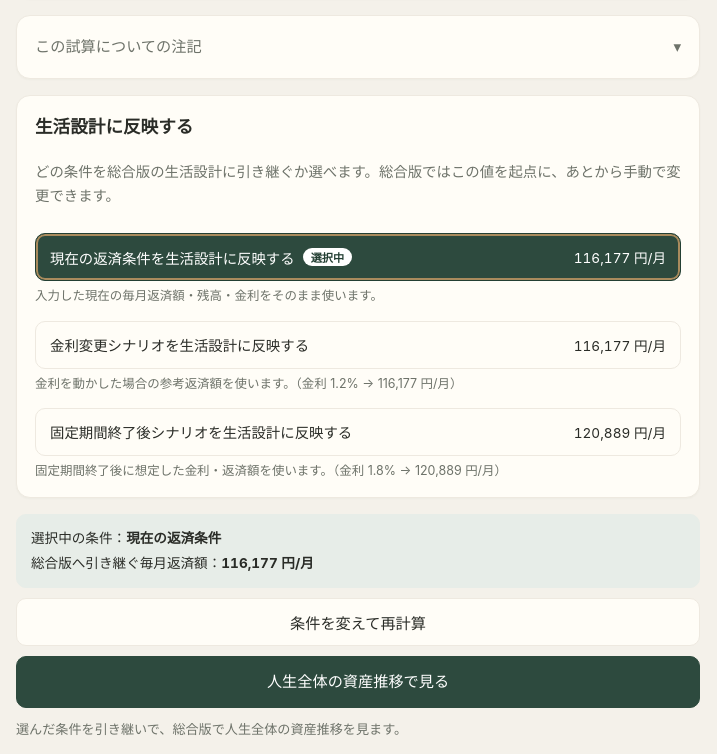
Scenario: ResultScreen 反映ボタンの選択状態 › 固定期間終了後シナリオを押すと保存メッセージが「固定期間終了後シナリオ」になる
This screenshot has width=717, height=754.
(page scrolled)
What coordinates should you click on to do the following:
click the button "固定期間終了後シナリオを生活設計に反映する 120,889 円/月"
I would click on:
 (201, 433)
Its box is [35, 408, 681, 456].
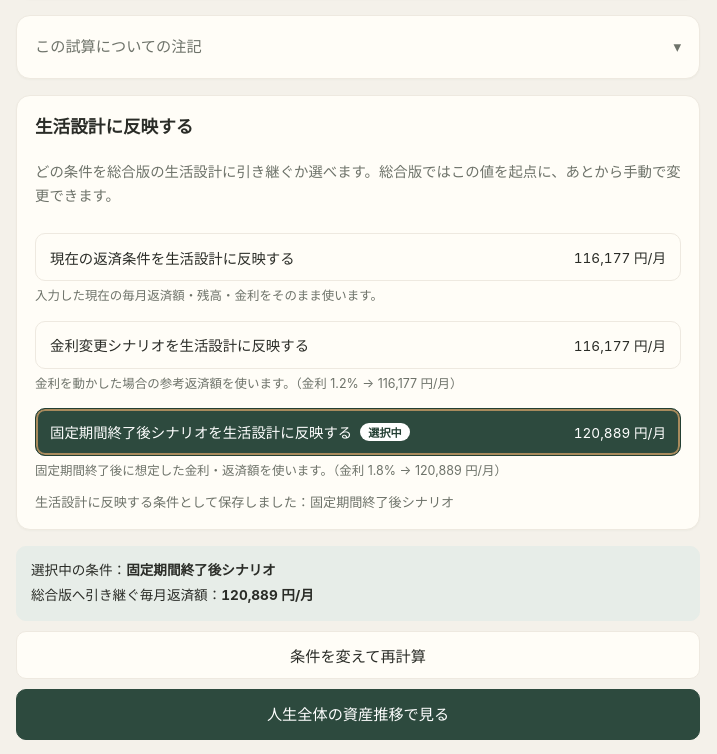
Expected: the message shows "固定期間終了後シナリオ", [310, 494, 454, 510]
